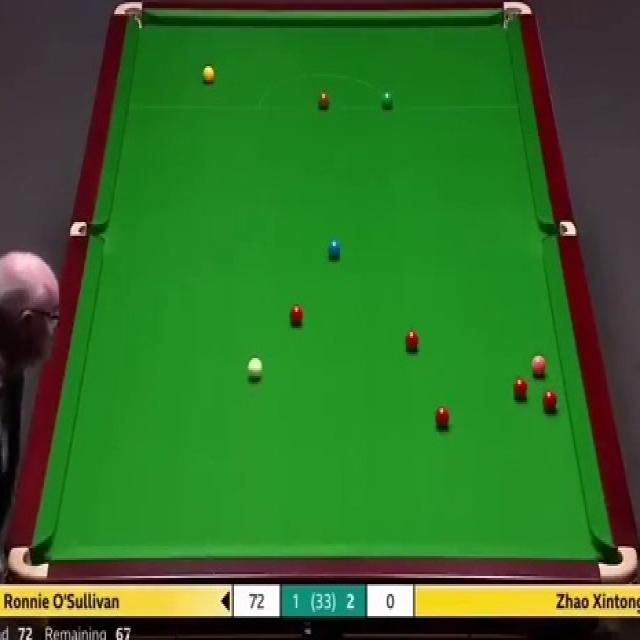blue-ball: (328, 239, 341, 261)
brown-ball: (318, 93, 330, 110)
green-ball: (382, 90, 393, 110)
pink-ball: (531, 353, 548, 378)
red-ball: (433, 405, 451, 430), (405, 327, 420, 352), (541, 391, 558, 411), (513, 378, 528, 399), (290, 304, 303, 327)
white-ball: (245, 356, 263, 384)
yellow-ball: (202, 66, 216, 86)
